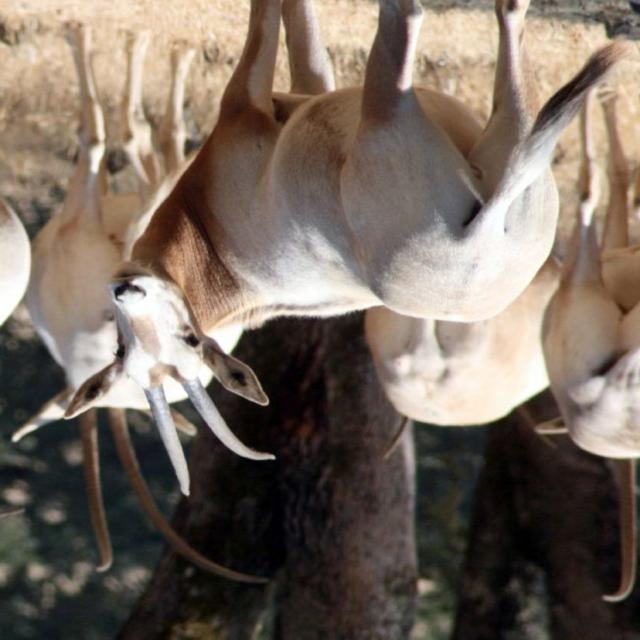Goat: (67, 2, 632, 498), (12, 23, 275, 583), (364, 251, 565, 461), (537, 84, 640, 462)
